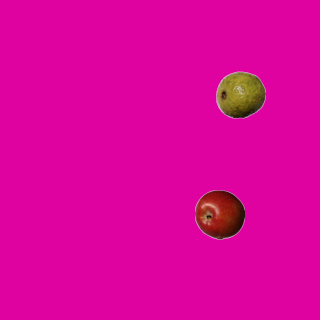Apple Braeburn: (194, 189, 244, 239)
Guava: (215, 69, 265, 119)
